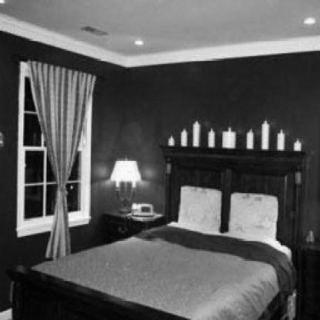other: (111, 152, 144, 188)
